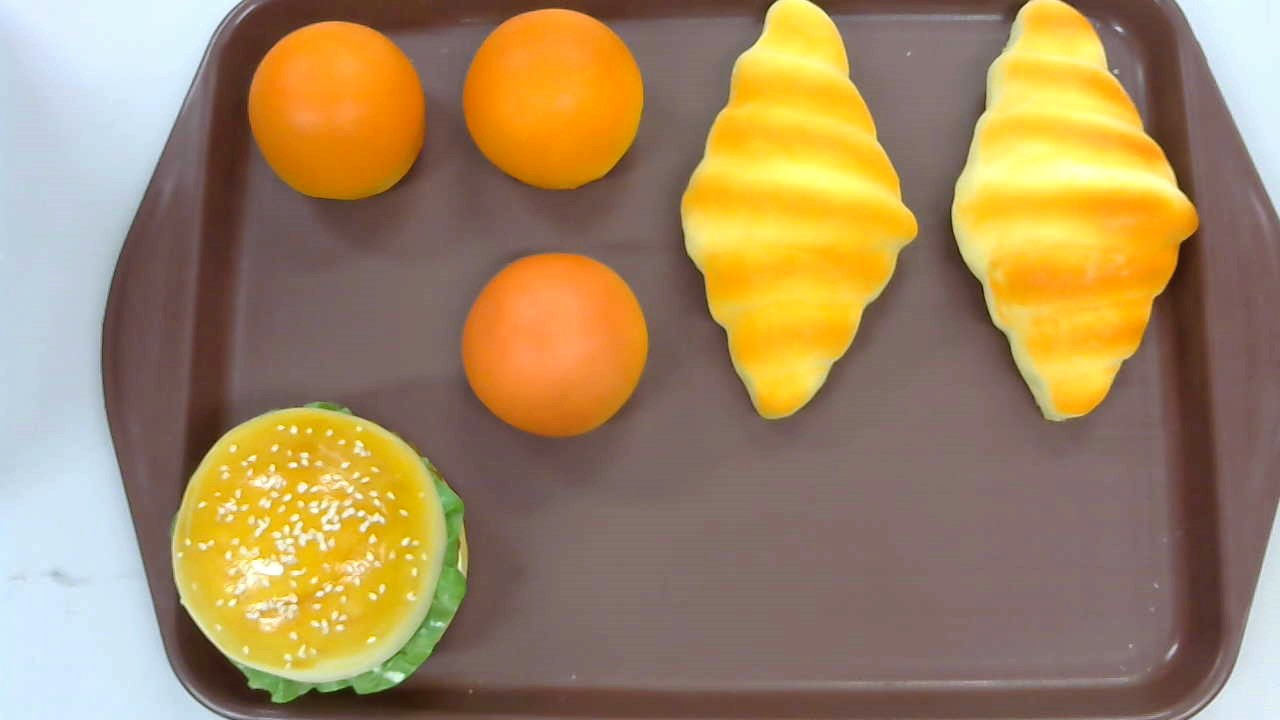bun: (462, 253, 650, 435), (462, 7, 644, 189), (247, 21, 427, 202)
croissant: (951, 1, 1200, 422), (680, 1, 919, 419)
hamburger: (170, 401, 467, 701)
